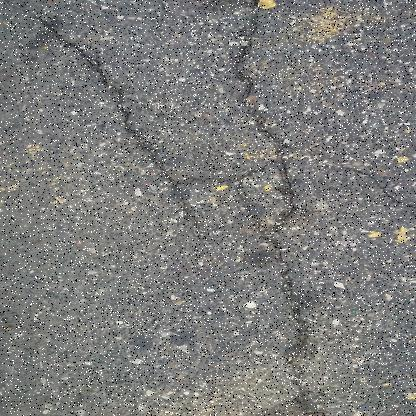Cracks: (214, 0, 326, 415), (30, 7, 179, 189)
